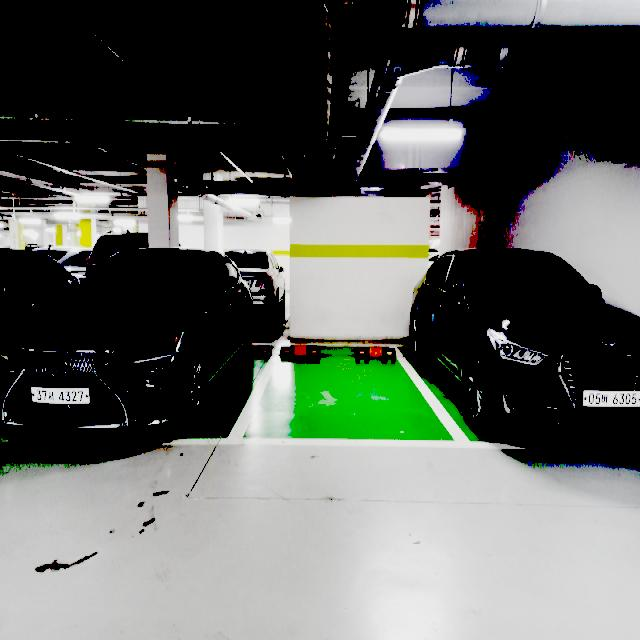empty: (246, 345, 450, 446)
occupied: (3, 242, 256, 450), (410, 244, 640, 445)
